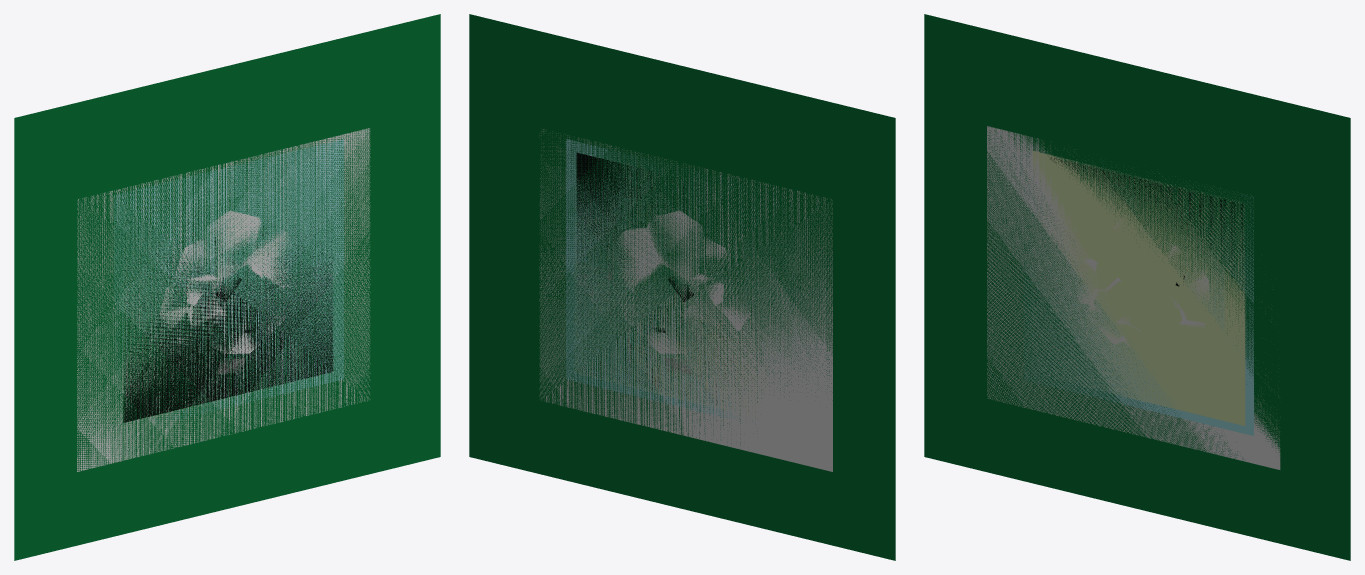
The model's file is Skeleton Prefab Mesh _Eb_Wisp_03_.glb.
The picture shows the model from 3 angles, left to right: view 1: azimuth 30°, elevation 25°; view 2: azimuth 150°, elevation 25°; view 3: azimuth 330°, elevation 25°; orthographic projection.
Visible parts, largest first — view 1: Skeleton Prefab Mesh "Eb_Wisp_03"; view 2: Skeleton Prefab Mesh "Eb_Wisp_03"; view 3: Skeleton Prefab Mesh "Eb_Wisp_03".
Boxes of the visible parts, <box> form: Skeleton Prefab Mesh "Eb_Wisp_03": <box>14,14,440,560</box>; Skeleton Prefab Mesh "Eb_Wisp_03": <box>469,14,895,560</box>; Skeleton Prefab Mesh "Eb_Wisp_03": <box>924,14,1350,560</box>.
Size of the model in its own units: 6.05 by 6.01 by 0.
